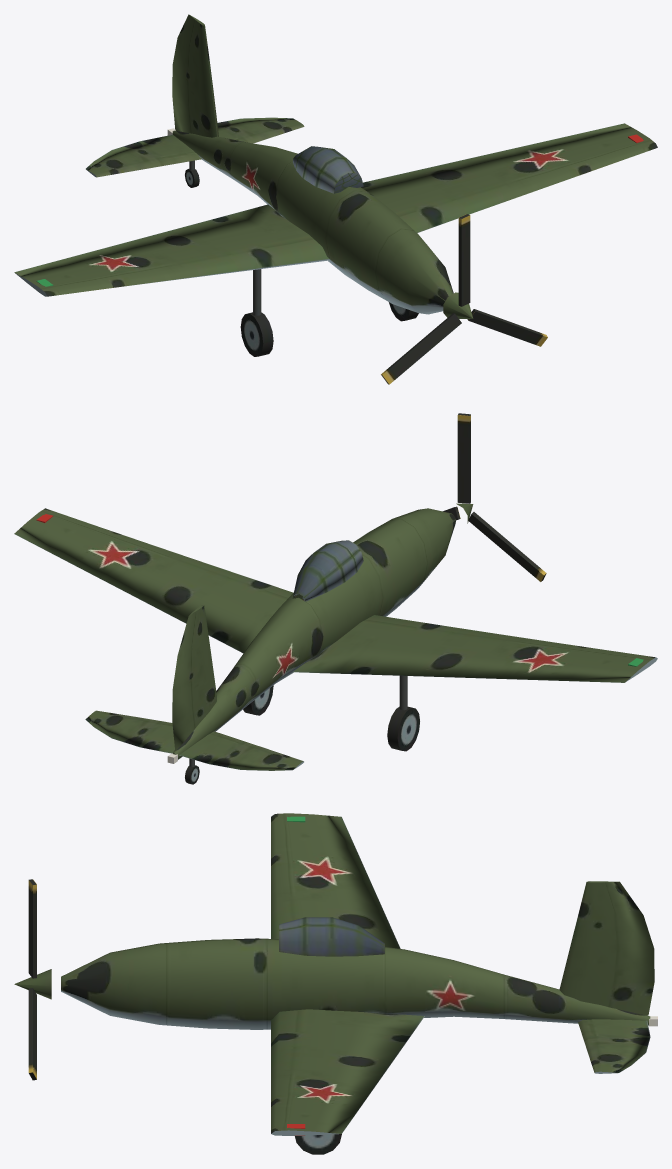
The model's file is fighter.glb.
3 views of the same model, one above another, from view 1: azimuth 30°, elevation 25°; view 2: azimuth 150°, elevation 25°; view 3: azimuth 270°, elevation 25° (orthographic). The views are drawn at different scales.
Visible parts, largest first — view 1: fuselage, prop_pales, wheel_right; view 2: fuselage, prop_pales, wheel_right; view 3: fuselage, prop_pales, wheel_left, prop.
Boxes of the visible parts, x1,y1,x2,y2 form: fuselage: (14, 14, 657, 314); prop_pales: (381, 214, 547, 384); wheel_right: (240, 312, 273, 356); fuselage: (14, 508, 657, 770); prop_pales: (443, 413, 546, 581); wheel_right: (387, 706, 419, 751); fuselage: (61, 813, 657, 1135); prop_pales: (28, 879, 36, 1080); wheel_left: (295, 1134, 341, 1154); prop: (14, 969, 51, 999).
Bounding box in the file's own units: 10 × 3.41 × 8.58.
Materials: 5 (5 with a texture image).
